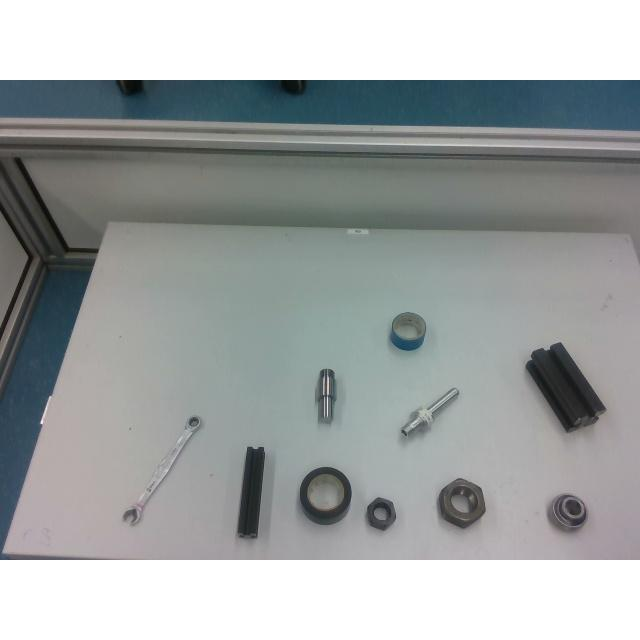Axis2: (316, 368, 334, 420)
Bearing2: (548, 493, 588, 531)
F20_20_B: (238, 447, 266, 539)
M20: (365, 496, 397, 532)
M30: (436, 478, 484, 526)
S40_40_B: (526, 342, 606, 434)
Wrench: (120, 416, 200, 522)
